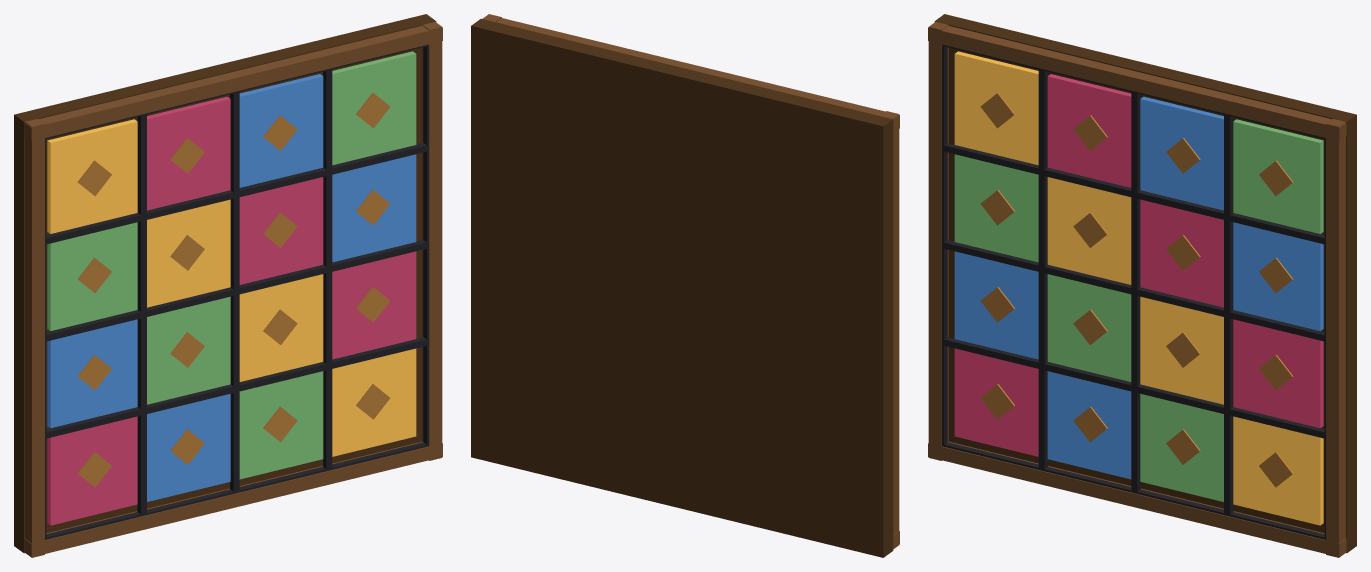
The model's file is mia-stained_window.glb.
3 views of the same model, side by side, from view 1: azimuth 30°, elevation 25°; view 2: azimuth 150°, elevation 25°; view 3: azimuth 330°, elevation 25° (orthographic).
Parts seen in each view (by area): view 1: Body_oak, Body_pane-amber, Body_pane-blue, Body_pane-green, Body_pane-ruby, Body_iron, Body_wood, Body_brass; view 2: Body_wood, Body_oak; view 3: Body_oak, Body_pane-green, Body_pane-ruby, Body_pane-amber, Body_pane-blue, Body_iron, Body_wood, Body_brass.
Boxes of the visible parts, x1,y1,x2,y2 form: Body_oak: [24, 22, 442, 557]; Body_pane-amber: [47, 119, 416, 456]; Body_pane-blue: [47, 74, 416, 501]; Body_pane-green: [47, 51, 416, 479]; Body_pane-ruby: [47, 96, 416, 525]; Body_iron: [45, 44, 428, 539]; Body_wood: [14, 14, 436, 553]; Body_brass: [77, 92, 390, 487]; Body_wood: [471, 18, 893, 557]; Body_oak: [482, 14, 899, 548]; Body_oak: [928, 22, 1346, 557]; Body_pane-green: [954, 119, 1323, 501]; Body_pane-ruby: [954, 74, 1323, 456]; Body_pane-amber: [954, 51, 1323, 525]; Body_pane-blue: [954, 96, 1323, 479]; Body_iron: [942, 44, 1325, 539]; Body_wood: [934, 14, 1356, 553]; Body_brass: [980, 92, 1293, 487].
Bounding box in the file's own units: 1.6 × 1.6 × 0.1135.
